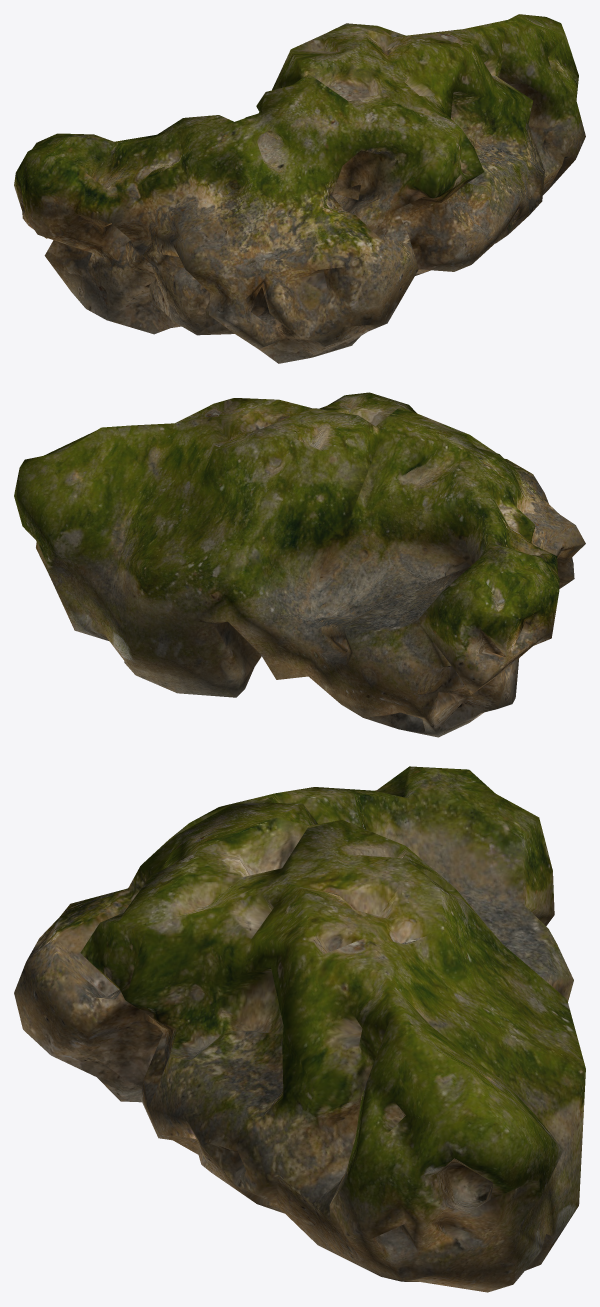
The model's file is thai-beach-coral.glb.
3 views of the same model, one above another, from view 1: azimuth 30°, elevation 25°; view 2: azimuth 150°, elevation 25°; view 3: azimuth 270°, elevation 25° (orthographic). The views are drawn at different scales.
Parts seen in each view (by area): view 1: ufnwacrfa_LOD0_TIER3_000; view 2: ufnwacrfa_LOD0_TIER3_000; view 3: ufnwacrfa_LOD0_TIER3_000.
Boxes of the visible parts, x1,y1,x2,y2 form: ufnwacrfa_LOD0_TIER3_000: [14, 14, 585, 363]; ufnwacrfa_LOD0_TIER3_000: [14, 392, 585, 737]; ufnwacrfa_LOD0_TIER3_000: [14, 766, 585, 1292].
Bounding box in the file's own units: 0.3058 × 0.1394 × 0.2025.
Materials: 1 (1 with a texture image).
